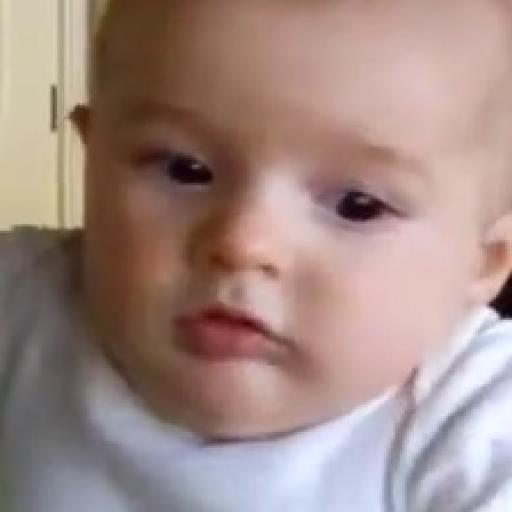Autism: (90, 7, 504, 461)
